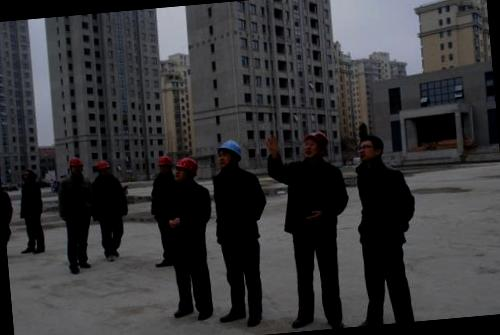no_helmet: (354, 132, 386, 166), (22, 164, 40, 184)
